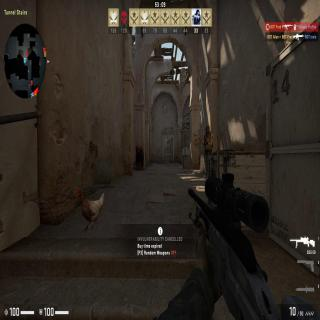T-Body: (202, 124, 214, 178)
T-Head: (205, 125, 210, 135)
